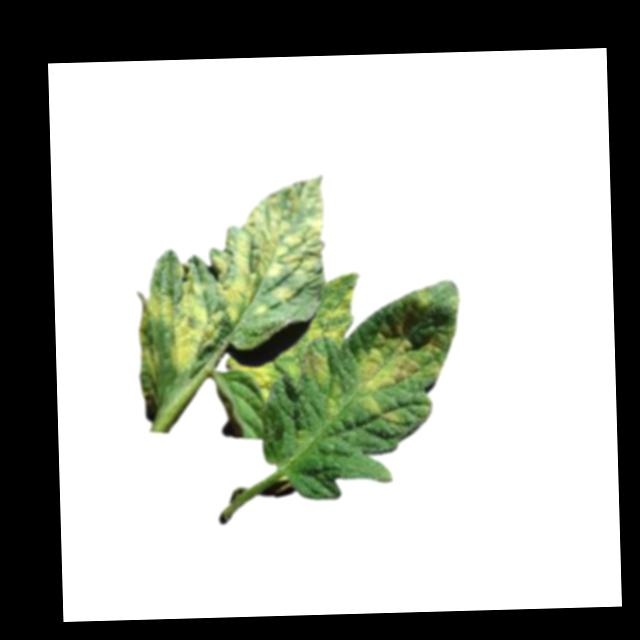Leaf_Mold: (218, 174, 329, 325), (355, 312, 446, 424), (137, 268, 221, 373), (307, 282, 355, 341), (229, 360, 274, 405), (297, 344, 329, 389)
